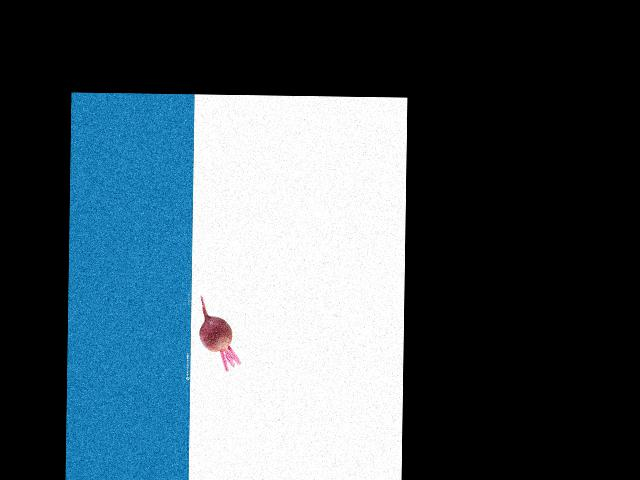beet: (199, 296, 241, 371)
